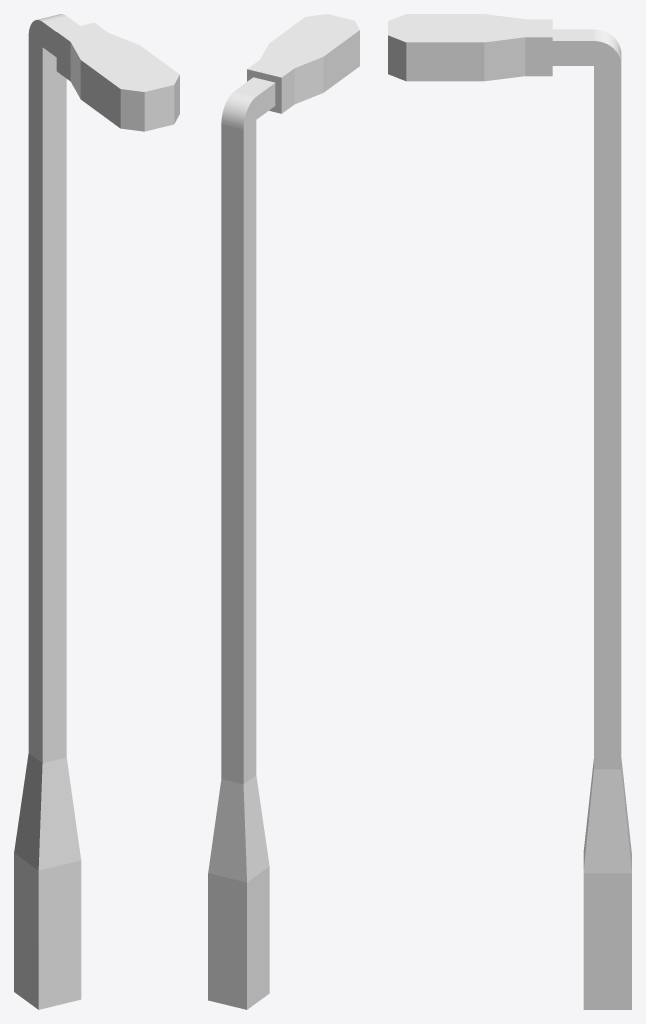
File: lightPostModern.glb
3 views of the same model, side by side, from view 1: azimuth 30°, elevation 25°; view 2: azimuth 150°, elevation 25°; view 3: azimuth 270°, elevation 25° (orthographic). The views are drawn at different scales.
Visible parts, largest first — view 1: lightPostModern(Clone); view 2: lightPostModern(Clone); view 3: lightPostModern(Clone).
Boxes of the visible parts, x1,y1,x2,y2 form: lightPostModern(Clone): [14, 14, 179, 1009]; lightPostModern(Clone): [208, 14, 359, 1009]; lightPostModern(Clone): [388, 14, 631, 1009].
Bounding box in the file's own units: 0.0491 × 0.7813 × 0.1776.
1 material, 1 textured.
